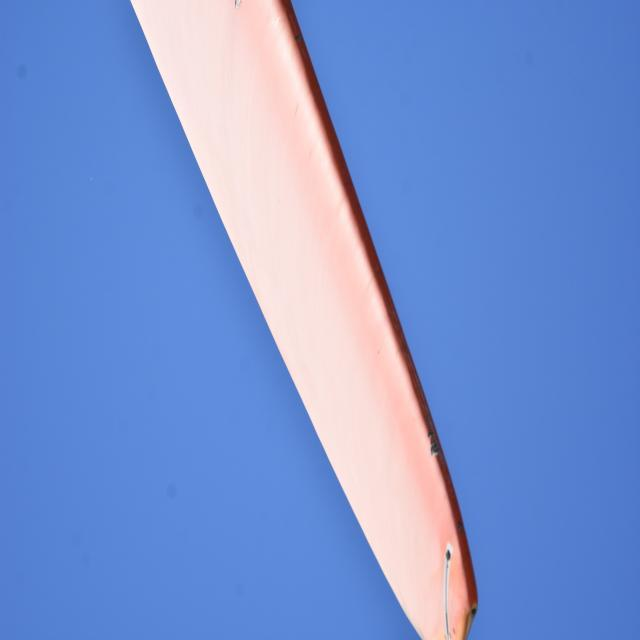Coating_defects: (462, 600, 481, 637)
Crack: (439, 564, 454, 640)
EROSION: (419, 424, 446, 464)
